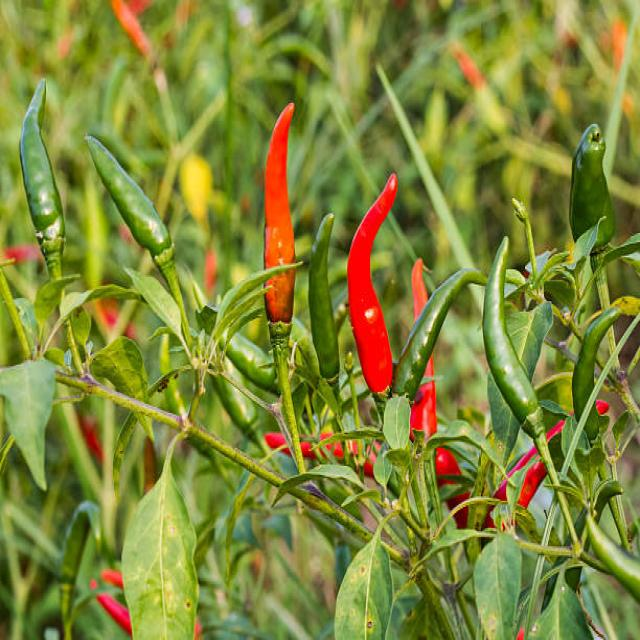Ripe: (348, 174, 398, 397), (264, 103, 296, 326)
Unripe: (392, 268, 486, 401), (484, 237, 540, 439), (87, 136, 171, 257), (20, 80, 65, 278), (572, 309, 620, 444), (569, 123, 615, 250), (309, 213, 339, 379), (586, 512, 640, 601), (226, 333, 278, 393)
